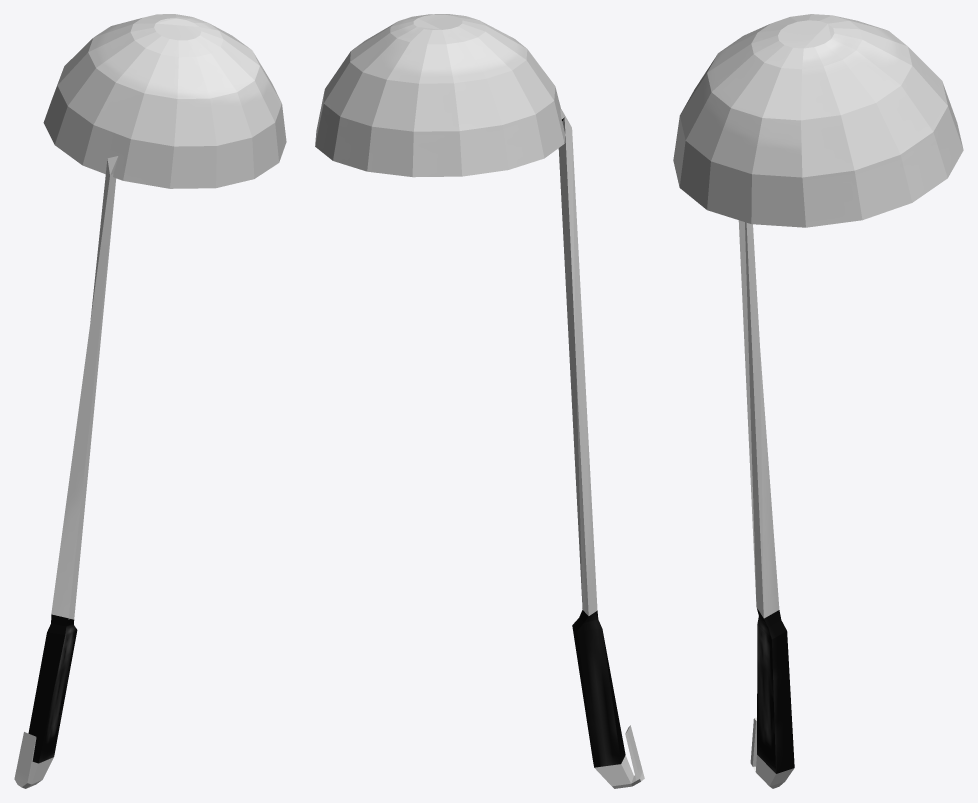
File: H_Laddle.fbx
3 renders of one model, left to right at view 1: azimuth 30°, elevation 25°; view 2: azimuth 150°, elevation 25°; view 3: azimuth 270°, elevation 25°, orthographic. The views are drawn at different scales.
Parts seen in each view (by area): view 1: Laddle; view 2: Laddle; view 3: Laddle.
Boxes of the visible parts, x1,y1,x2,y2 form: Laddle: (14, 14, 286, 788); Laddle: (315, 14, 644, 788); Laddle: (673, 14, 963, 788).
Bounding box in the file's own units: 34.15 × 83.79 × 25.99.
